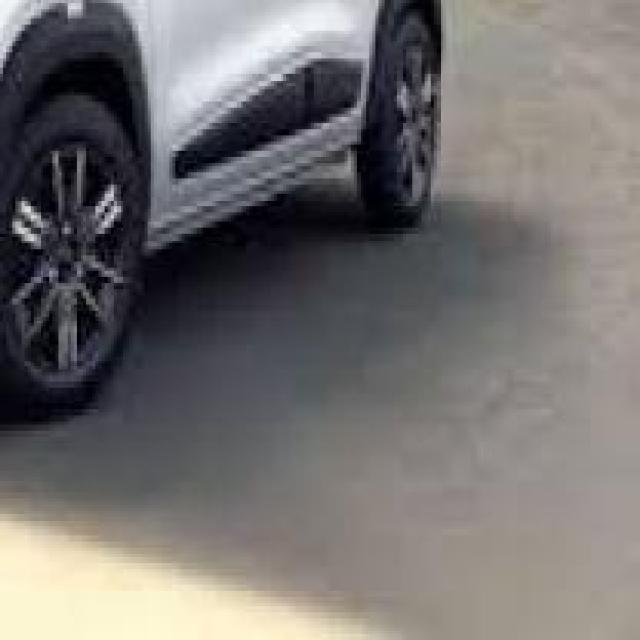car: (0, 0, 480, 400)
